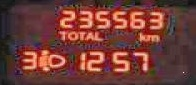1: (78, 50, 83, 71)
2: (86, 48, 103, 71), (58, 8, 74, 27)
3: (148, 10, 163, 29), (21, 48, 35, 67), (78, 7, 89, 27)
5: (109, 50, 128, 71), (93, 10, 109, 27), (111, 8, 125, 27)
6: (128, 10, 144, 29)
7: (133, 49, 148, 70)
X: (143, 32, 159, 42), (93, 30, 103, 40), (66, 30, 76, 39), (136, 31, 145, 41), (84, 30, 93, 40), (58, 29, 64, 39), (78, 30, 84, 39)
